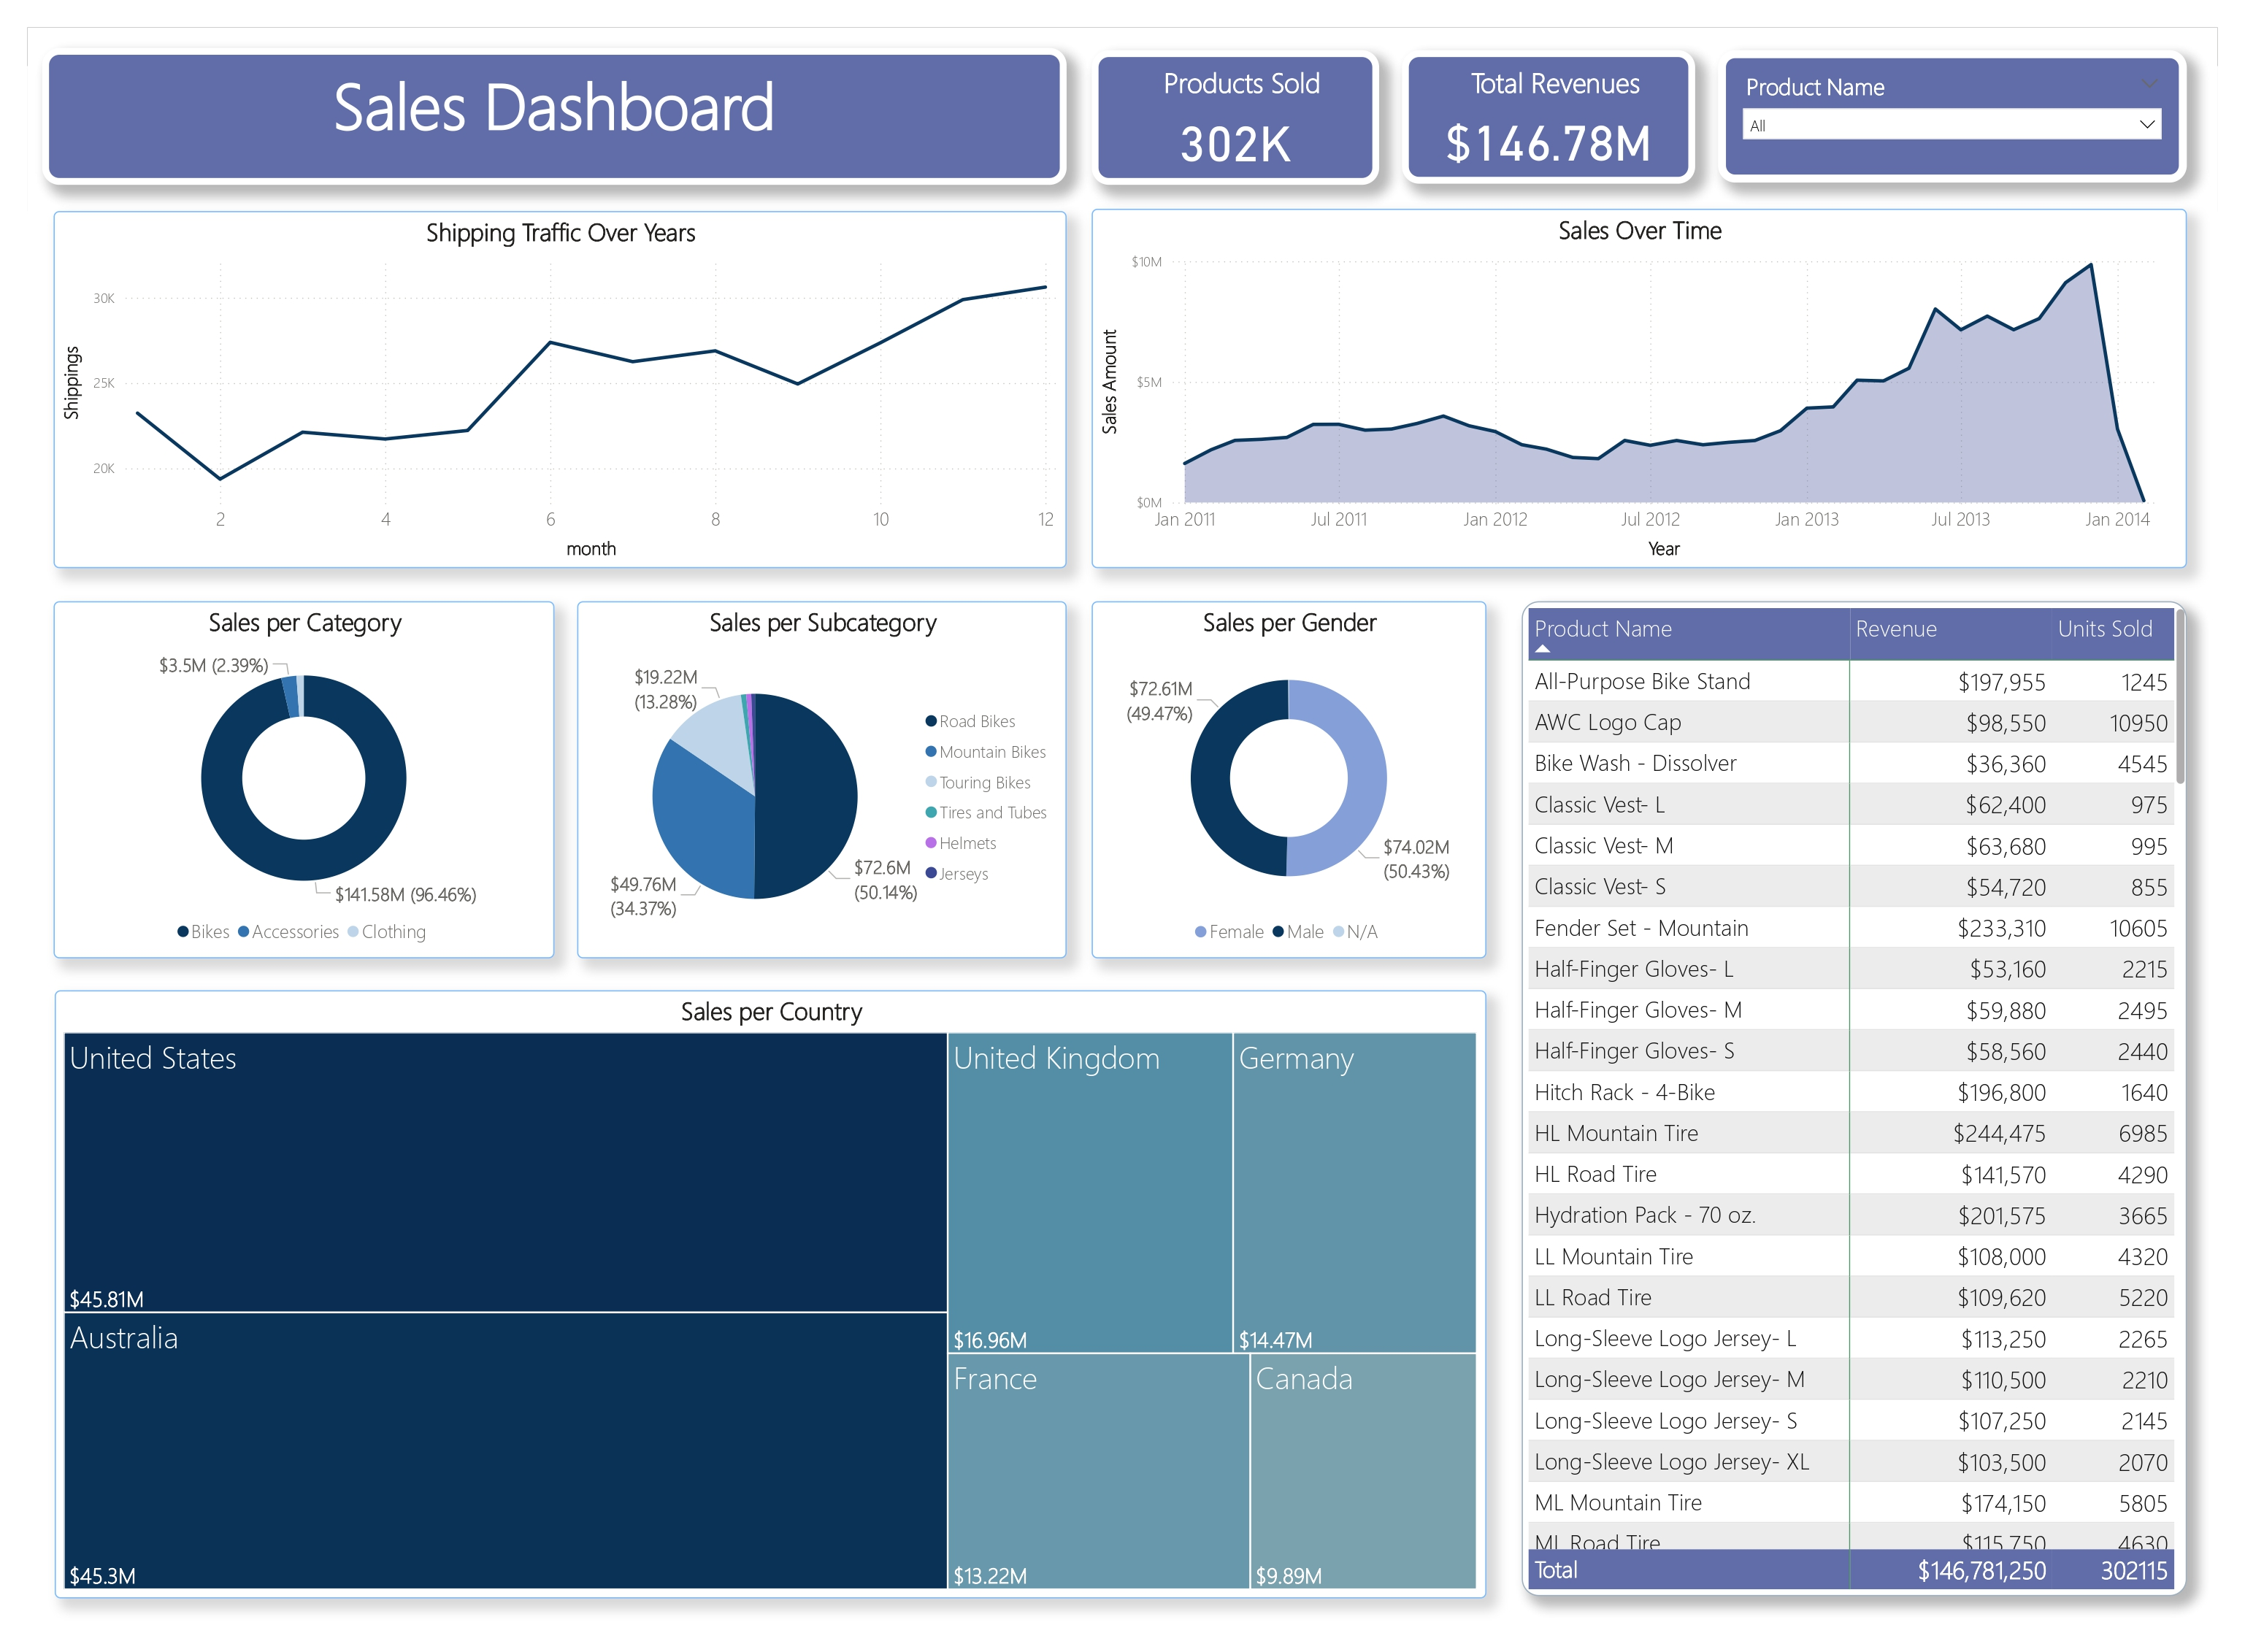

What the dashboard file says about the page in this screenshot:
{"tool":"powerbi","page":{"name":"Sales","canvas":[1920,1400],"ordinal":3},"visuals":[{"type":"treemap","title":"Sales per Country","fields":{"Group":["dim_customers.country"],"Values":["Sum(fact_sales.sales_amount)"]},"box":[23.8,844.1,1255.4,532.6],"z":0},{"type":"pieChart","title":"Sales per Subcategory","fields":{"Category":["dim_products.subcategory"],"Y":["Sum(fact_sales.sales_amount)"]},"box":[482,503.3,429.5,313.1],"z":1000},{"type":"donutChart","title":"Sales per Category","fields":{"Category":["dim_products.category"],"Y":["Sum(fact_sales.sales_amount)"]},"box":[23,503.3,439.3,313.1],"z":2000},{"type":"slicer","fields":{"Values":["dim_products.product_name"]},"box":[1482,19.7,411.5,116.4],"z":3000},{"type":"areaChart","title":"Sales Over Time","fields":{"Y":["Sum(fact_sales.sales_amount)"],"Category":["dim_dates.date_value.Variation.Date Hierarchy.Year","dim_dates.date_value.Variation.Date Hierarchy.Quarter","dim_dates.date_value.Variation.Date Hierarchy.Month"]},"box":[932.8,159,960.7,314.8],"z":4000},{"type":"lineChart","title":"Shipping Traffic Over Years","fields":{"Category":["dim_dates.month"],"Y":["CountNonNull(fact_sales.key_ship_date)"]},"box":[23,160.7,888.5,313.1],"z":5000},{"type":"card","title":"Total Revenues","fields":{"Values":["Sum(fact_sales.sales_amount)"]},"box":[1205,20,256.7,116.7],"z":6000},{"type":"donutChart","title":"Sales per Gender","fields":{"Y":["Sum(fact_sales.sales_amount)"],"Category":["dim_customers.gender"]},"box":[932.8,503.3,345.9,313.1],"z":7000},{"type":"pivotTable","fields":{"Rows":["dim_products.product_name"],"Values":["Sum(fact_sales.sales_amount)","Sum(fact_sales.quantity)"]},"box":[1309.8,503.3,583.6,872.1],"z":8000},{"type":"card","title":"Products Sold","fields":{"Values":["Sum(fact_sales.quantity)"]},"box":[932.8,19.7,252.5,118],"z":9000},{"type":"textbox","box":[13.1,18,898.4,119.7],"z":10000}]}

Visuals, with their boxes on the page's 1920x1400 design canvas (x1, y1, x2, y2). These are canvas units, not pixel positions in the 2245x1652 screenshot, which may show the page scaled, cropped or inside an application window:
"Sales per Country" treemap: [24, 844, 1279, 1377]
"Sales per Subcategory" pieChart: [482, 503, 912, 816]
"Sales per Category" donutChart: [23, 503, 462, 816]
slicer - dim_products.product_name: [1482, 20, 1894, 136]
"Sales Over Time" areaChart: [933, 159, 1894, 474]
"Shipping Traffic Over Years" lineChart: [23, 161, 912, 474]
"Total Revenues" card: [1205, 20, 1462, 137]
"Sales per Gender" donutChart: [933, 503, 1279, 816]
pivotTable - dim_products.product_name x Sum(fact_sales.sales_amount): [1310, 503, 1893, 1375]
"Products Sold" card: [933, 20, 1185, 138]
textbox: [13, 18, 912, 138]
